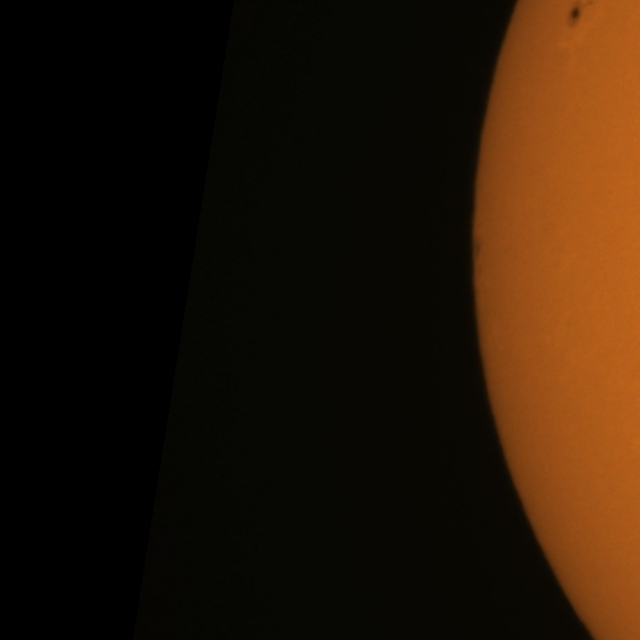sunspot: (566, 1, 594, 30)
